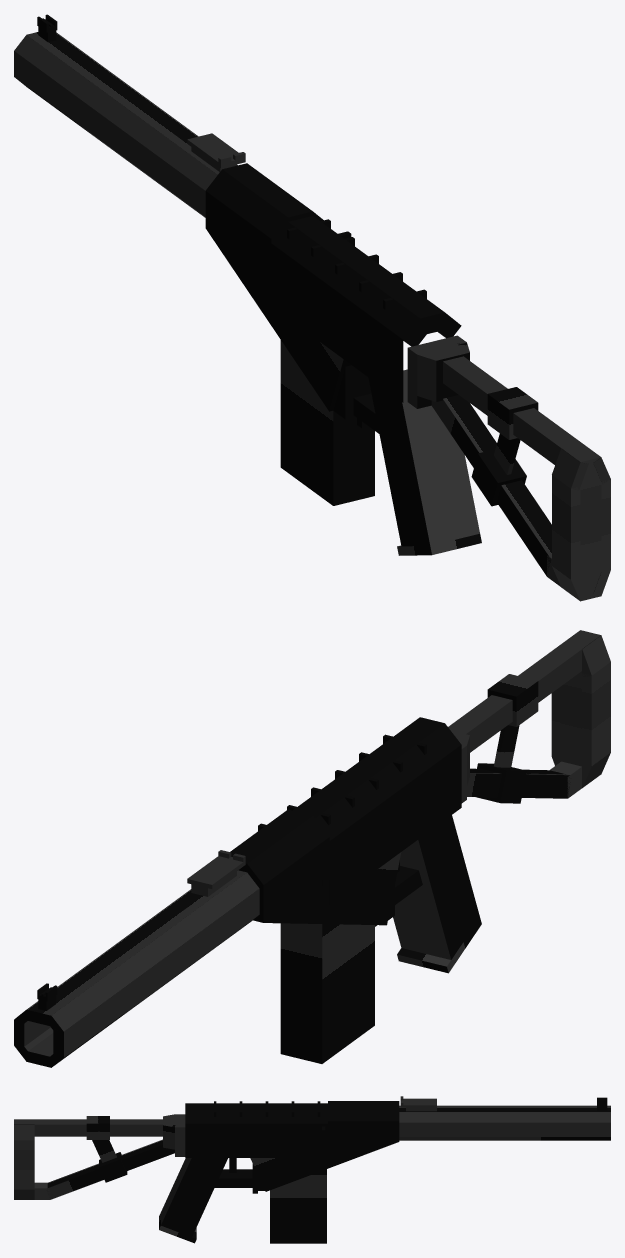
Rendered from mteg_as_val.glb.
The picture shows the model from 3 angles, top to bottom: view 1: azimuth 30°, elevation 25°; view 2: azimuth 150°, elevation 25°; view 3: azimuth 270°, elevation 25°; orthographic projection. The views are drawn at different scales.
Parts seen in each view (by area): view 1: Gun; view 2: Gun; view 3: Gun.
Boxes of the visible parts, x1=… form: Gun: x1=14, y1=14, x2=610, y2=601; Gun: x1=14, y1=630, x2=610, y2=1067; Gun: x1=14, y1=1096, x2=610, y2=1243.
Size of the model in its own units: 0.1116 by 0.3694 by 1.44.
1 material, 1 textured.
